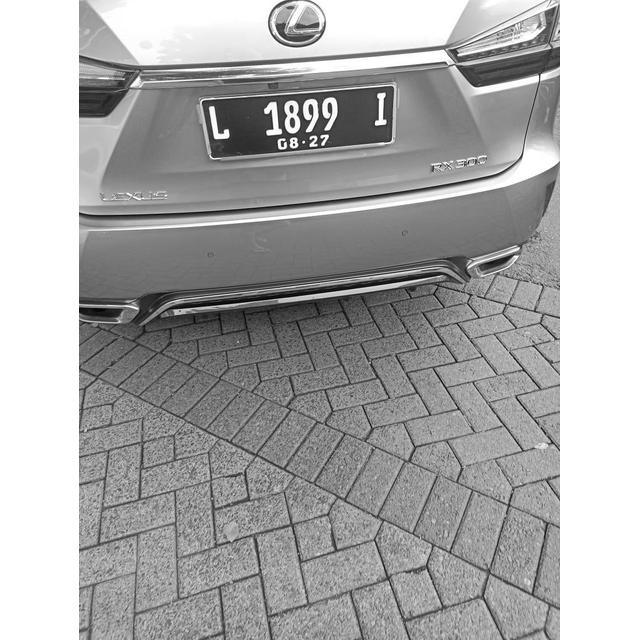license: (206, 88, 389, 151)
